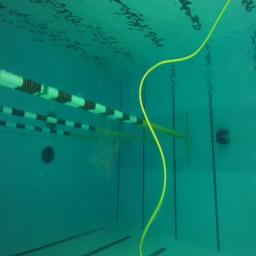Full: (215, 128, 229, 143)
